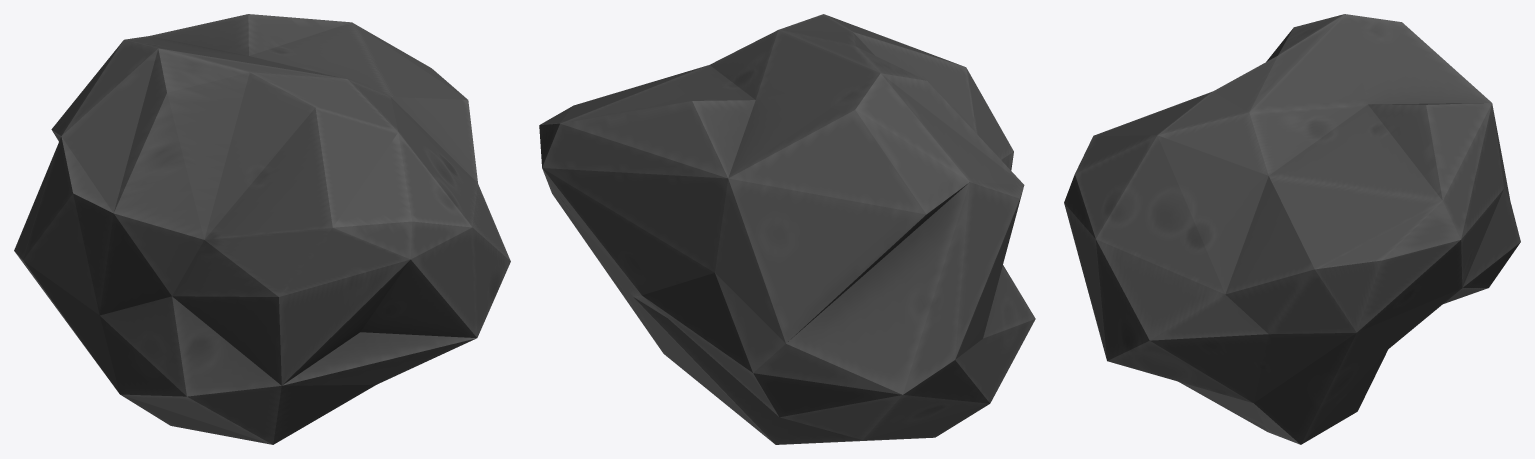
File: asteroid9.glb
3 views of the same model, side by side, from view 1: azimuth 30°, elevation 25°; view 2: azimuth 150°, elevation 25°; view 3: azimuth 270°, elevation 25° (orthographic). The views are drawn at different scales.
Parts seen in each view (by area): view 1: Asteroids_Mesh.009; view 2: Asteroids_Mesh.009; view 3: Asteroids_Mesh.009.
Part boxes in pixels (box(x1,y1,x2,y2)): Asteroids_Mesh.009: box(14, 14, 510, 444); Asteroids_Mesh.009: box(539, 14, 1035, 444); Asteroids_Mesh.009: box(1064, 14, 1520, 444).
Bounding box in the file's own units: 2.25 × 2.03 × 2.23.
Materials: 1 (1 with a texture image).
